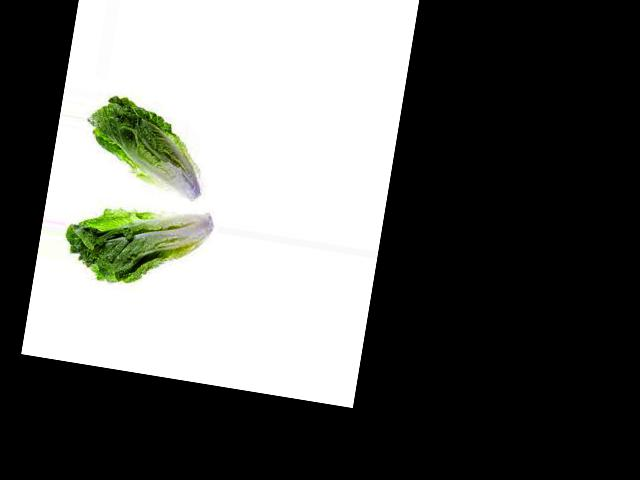lettuce: (74, 192, 183, 312)
